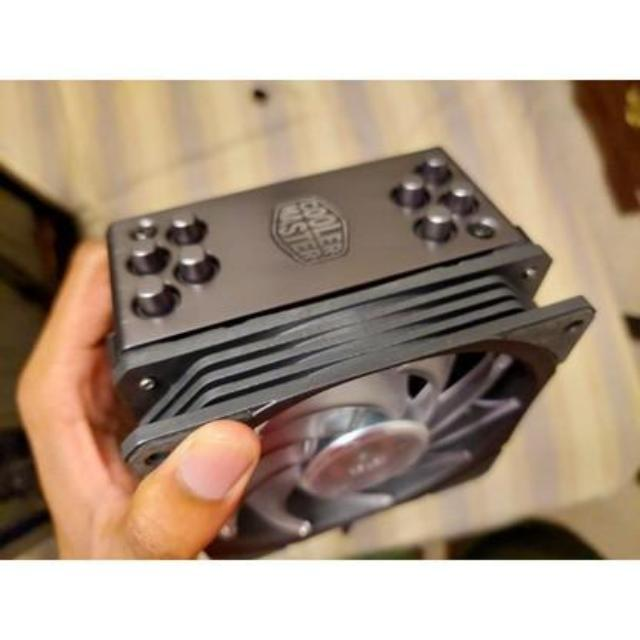CPU_Fan: (99, 137, 592, 557)
